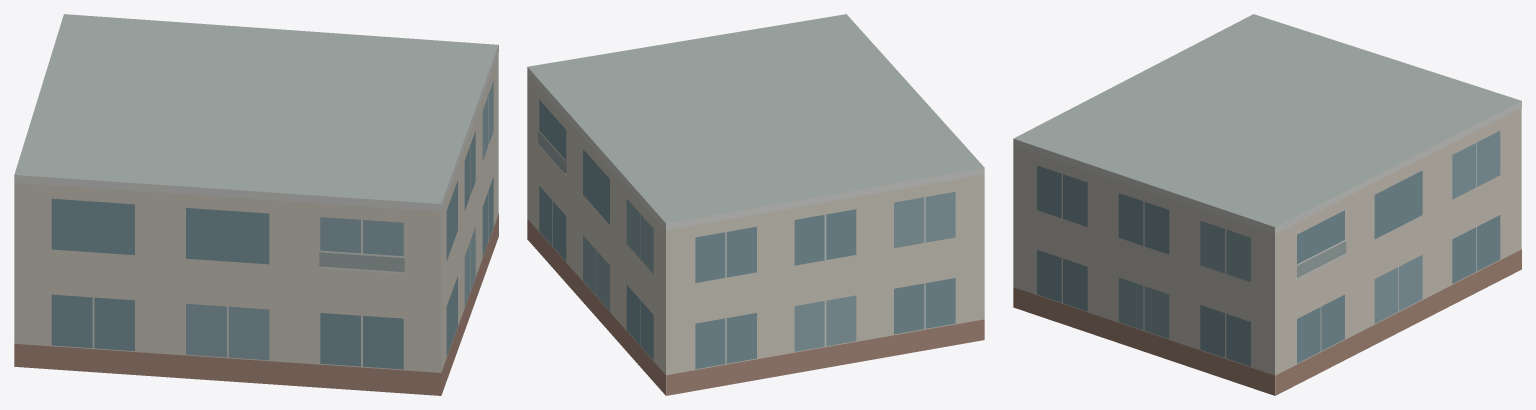
The model's file is survey-upis-32851382.glb.
3 views of the same model, side by side, from view 1: azimuth 30°, elevation 25°; view 2: azimuth 150°, elevation 25°; view 3: azimuth 270°, elevation 25° (orthographic). The views are drawn at different scales.
Parts seen in each view (by area): view 1: survey-upis-32851382.tmp; view 2: survey-upis-32851382.tmp; view 3: survey-upis-32851382.tmp.
Boxes of the visible parts, x1,y1,x2,y2 form: survey-upis-32851382.tmp: (14, 14, 498, 395); survey-upis-32851382.tmp: (527, 14, 984, 395); survey-upis-32851382.tmp: (1013, 14, 1521, 395).
Size of the model in its own units: 16.54 by 6.1 by 16.67.
